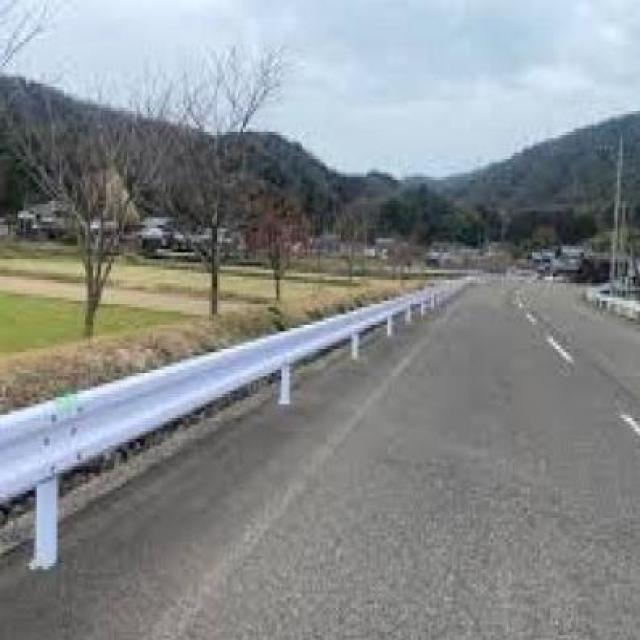Guard rail: (0, 276, 453, 606)
